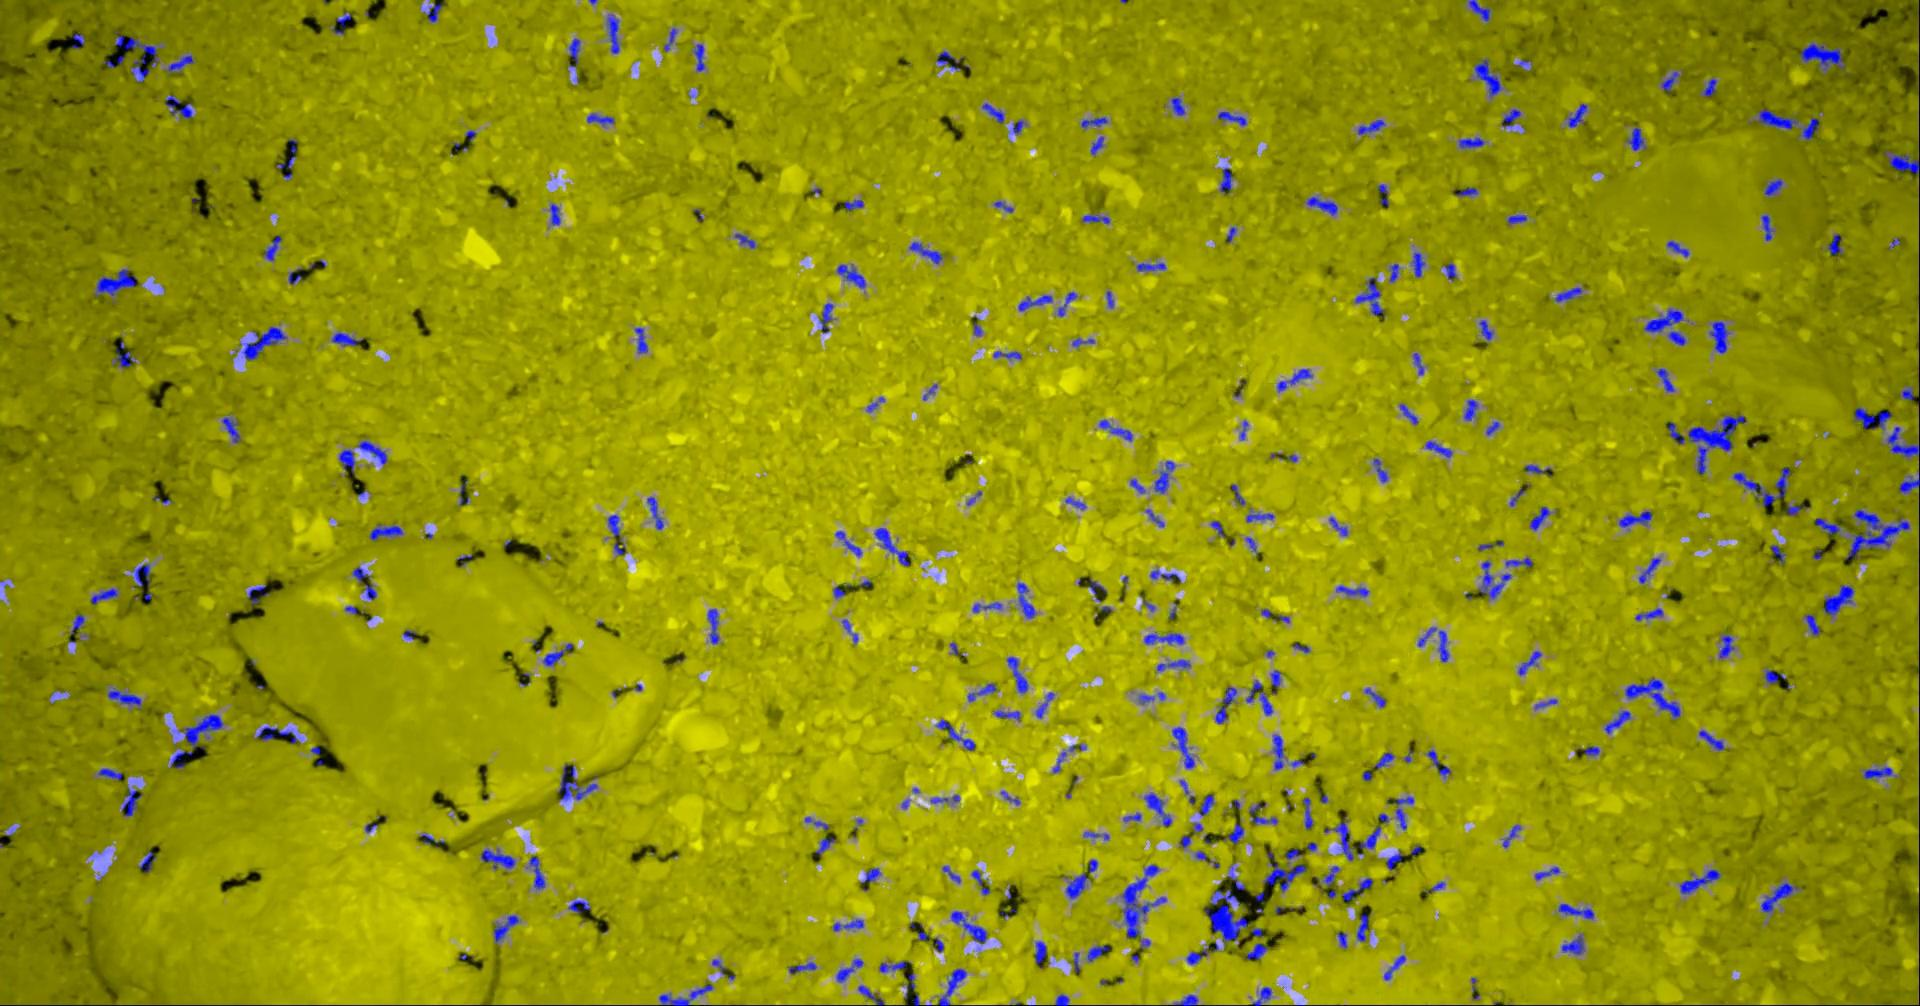ant: (1844, 509, 1909, 559), (1121, 864, 1164, 937), (1204, 889, 1248, 941), (114, 29, 157, 83), (1732, 467, 1790, 506), (1624, 677, 1679, 716), (1263, 851, 1305, 890), (178, 714, 223, 749), (240, 326, 284, 359), (557, 763, 597, 800), (874, 527, 909, 565), (1477, 560, 1511, 598), (1323, 815, 1352, 860), (935, 719, 975, 749), (1799, 42, 1845, 69), (658, 983, 712, 1005), (94, 268, 136, 296), (1354, 277, 1384, 315), (1760, 882, 1798, 912), (950, 911, 985, 942), (937, 968, 966, 1005), (1474, 58, 1501, 97), (1643, 309, 1688, 332), (1887, 426, 1919, 457), (1417, 627, 1448, 661), (1244, 680, 1272, 715), (1679, 869, 1719, 893), (1171, 727, 1194, 768), (1822, 584, 1853, 615), (1143, 793, 1171, 826), (1884, 150, 1919, 177), (1757, 108, 1798, 130), (1854, 406, 1891, 429), (276, 138, 297, 177), (1276, 368, 1312, 391), (352, 567, 376, 600), (1006, 655, 1027, 692), (1016, 582, 1036, 619), (836, 263, 865, 288), (356, 439, 386, 464), (1341, 876, 1371, 901), (1186, 941, 1218, 964), (1215, 687, 1236, 723), (480, 848, 516, 869), (1098, 419, 1131, 441), (1153, 460, 1175, 493), (257, 727, 300, 743), (834, 530, 861, 556), (607, 514, 625, 554), (542, 643, 573, 666), (909, 241, 941, 263), (1708, 321, 1730, 353), (493, 915, 518, 941), (836, 958, 863, 982), (1393, 796, 1413, 829), (1426, 749, 1450, 776), (1357, 826, 1380, 854), (165, 94, 190, 118), (1604, 710, 1630, 733), (1305, 196, 1337, 215), (1250, 801, 1277, 823), (121, 786, 141, 815), (107, 687, 140, 705), (1517, 650, 1542, 674), (113, 340, 135, 367), (1638, 558, 1660, 583), (1065, 873, 1087, 898), (1383, 955, 1404, 981), (1618, 511, 1651, 527), (857, 984, 884, 1005), (646, 497, 663, 528), (1558, 903, 1592, 918), (1529, 506, 1550, 530), (168, 55, 193, 75), (1143, 631, 1183, 644), (1223, 818, 1243, 843), (1698, 730, 1724, 749), (1018, 295, 1051, 310), (370, 525, 403, 540), (1323, 865, 1338, 898), (606, 14, 618, 53), (968, 683, 996, 701), (1467, 0, 1490, 22), (1567, 103, 1587, 127), (1798, 116, 1818, 140), (1057, 291, 1076, 316), (263, 234, 281, 260), (1425, 439, 1451, 457), (90, 587, 117, 605), (1561, 934, 1583, 954), (530, 856, 543, 889), (221, 417, 239, 442), (1194, 850, 1219, 868), (971, 869, 989, 894), (982, 103, 1003, 123), (1364, 687, 1385, 708), (1625, 127, 1644, 150), (169, 749, 192, 768), (1035, 692, 1053, 716), (331, 332, 362, 345), (1898, 473, 1919, 493), (331, 11, 350, 33), (1217, 111, 1246, 124), (1553, 287, 1582, 301), (819, 302, 833, 332), (1656, 368, 1674, 391), (1502, 824, 1520, 847), (338, 448, 354, 473), (1399, 403, 1418, 423), (1815, 518, 1840, 533), (248, 584, 268, 603), (1251, 986, 1271, 1005), (132, 563, 149, 586), (1335, 584, 1368, 596), (841, 619, 857, 641), (1086, 945, 1109, 962), (1357, 119, 1384, 133), (634, 326, 648, 353), (585, 112, 615, 124), (1863, 766, 1892, 779), (423, 3, 442, 22), (1501, 108, 1520, 127), (879, 960, 910, 972), (1661, 71, 1679, 91), (1666, 240, 1688, 257), (1371, 752, 1393, 768), (1246, 942, 1267, 959), (419, 833, 444, 847), (1371, 459, 1387, 481), (1149, 569, 1180, 580), (707, 608, 717, 643), (1719, 634, 1735, 657), (1156, 659, 1190, 669), (1272, 734, 1283, 768), (1219, 166, 1232, 193), (1328, 517, 1347, 535), (1636, 607, 1662, 620), (804, 815, 828, 829), (1302, 796, 1312, 829), (815, 837, 836, 854), (138, 851, 155, 871), (568, 38, 579, 67), (1827, 232, 1843, 254), (1804, 614, 1820, 635), (1197, 794, 1213, 815), (1534, 866, 1559, 879), (832, 920, 863, 930), (1034, 941, 1046, 967), (1079, 116, 1107, 127), (1356, 913, 1368, 941), (789, 962, 817, 973), (942, 865, 960, 883), (1087, 578, 1106, 594), (1385, 850, 1402, 869), (663, 27, 676, 51), (1458, 137, 1484, 149), (1760, 213, 1771, 240), (1524, 464, 1550, 475), (1246, 511, 1272, 522), (903, 972, 914, 998), (1479, 319, 1493, 340), (1463, 399, 1477, 420), (1230, 484, 1244, 506), (1764, 669, 1785, 683), (971, 602, 1001, 612), (1764, 179, 1782, 196), (102, 55, 124, 67), (97, 768, 122, 780), (861, 868, 880, 883), (568, 901, 590, 913), (693, 43, 703, 71), (1081, 213, 1109, 224), (734, 232, 754, 246), (1770, 544, 1784, 564), (1503, 556, 1531, 567), (70, 614, 84, 634), (1412, 251, 1423, 276), (1270, 669, 1281, 694), (936, 50, 952, 66), (1667, 330, 1685, 345), (1210, 520, 1225, 537), (1477, 540, 1503, 550), (1170, 97, 1183, 116), (1065, 495, 1084, 509), (930, 794, 959, 803), (1090, 136, 1103, 154), (1137, 262, 1164, 271), (993, 351, 1021, 359), (1412, 352, 1423, 373), (1703, 77, 1716, 97), (1377, 184, 1388, 205), (549, 203, 560, 224), (1175, 995, 1197, 1005), (1901, 387, 1919, 400), (1083, 831, 1109, 840), (1784, 503, 1803, 514), (994, 710, 1018, 719), (287, 268, 301, 283), (1129, 479, 1144, 493), (1444, 263, 1457, 279), (843, 199, 863, 210), (71, 33, 84, 48), (1507, 213, 1526, 224), (1389, 263, 1399, 282), (1455, 187, 1477, 196), (1070, 338, 1095, 345), (1012, 119, 1025, 133), (1178, 832, 1190, 847), (1284, 848, 1300, 859), (1138, 694, 1153, 704), (1054, 995, 1068, 1005), (1583, 746, 1599, 754)
